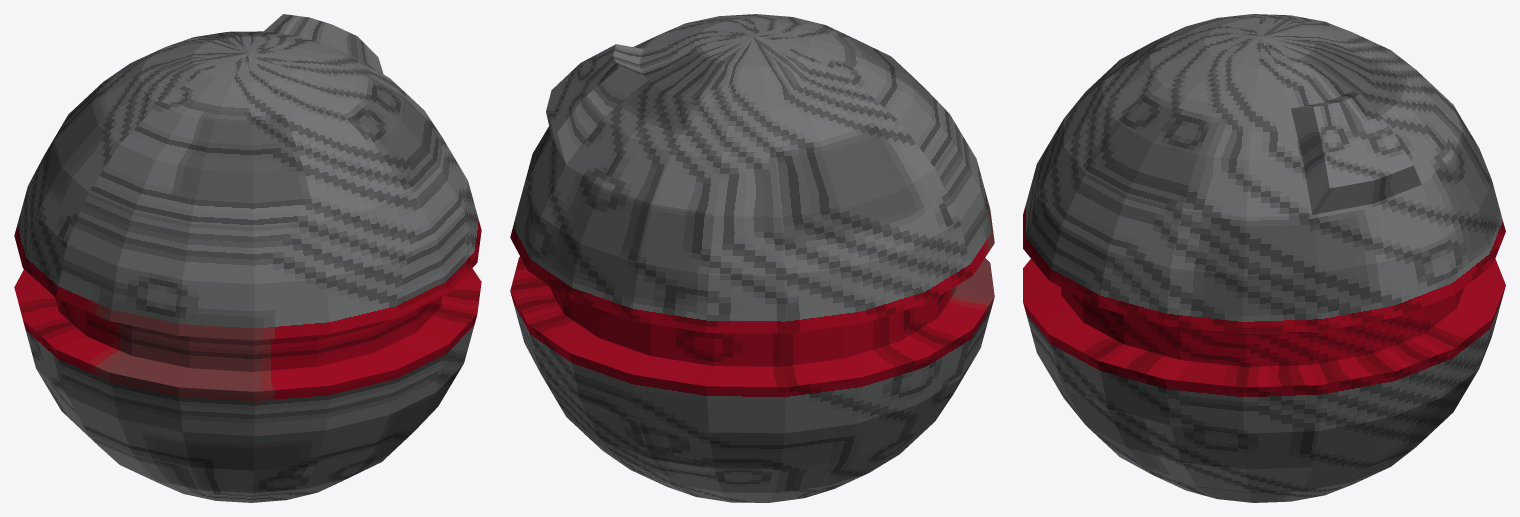
Rendered from enemy1.glb.
The picture shows the model from 3 angles, left to right: view 1: azimuth 30°, elevation 25°; view 2: azimuth 150°, elevation 25°; view 3: azimuth 270°, elevation 25°; orthographic projection. The views are drawn at different scales.
Parts seen in each view (by area): view 1: Sphere; view 2: Sphere; view 3: Sphere.
Boxes of the visible parts, x1,y1,x2,y2 form: Sphere: (14, 14, 481, 502); Sphere: (510, 14, 994, 502); Sphere: (1023, 14, 1505, 502).
Bounding box in the file's own units: 1.98 × 2 × 1.97.
Materials: 1 (1 with a texture image).
